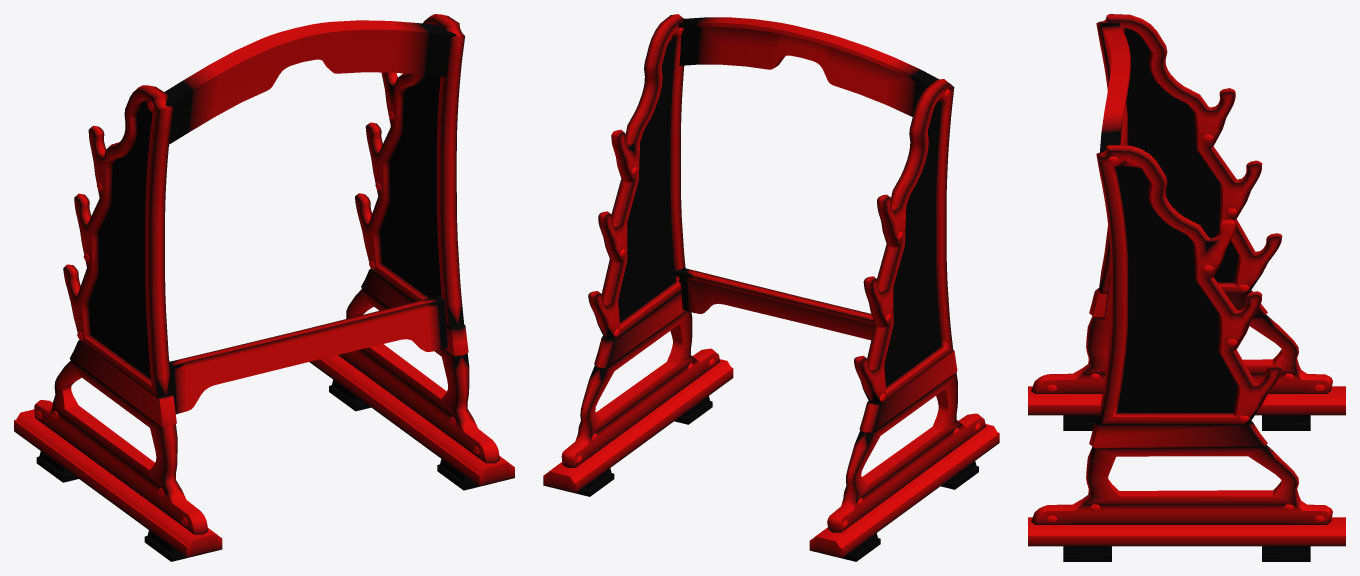
File: SM_WeaponStand.FBX
3 renders of one model, left to right at view 1: azimuth 30°, elevation 25°; view 2: azimuth 150°, elevation 25°; view 3: azimuth 270°, elevation 25°, orthographic. The views are drawn at different scales.
Visible parts, largest first — view 1: SM_WeaponStand_LOD0; view 2: SM_WeaponStand_LOD0; view 3: SM_WeaponStand_LOD0.
Boxes of the visible parts, x1,y1,x2,y2 form: SM_WeaponStand_LOD0: (14, 14, 514, 561); SM_WeaponStand_LOD0: (543, 14, 999, 561); SM_WeaponStand_LOD0: (1028, 14, 1345, 561).
Size of what is drawn, in the model's own units: 107 by 97.66 by 146.
